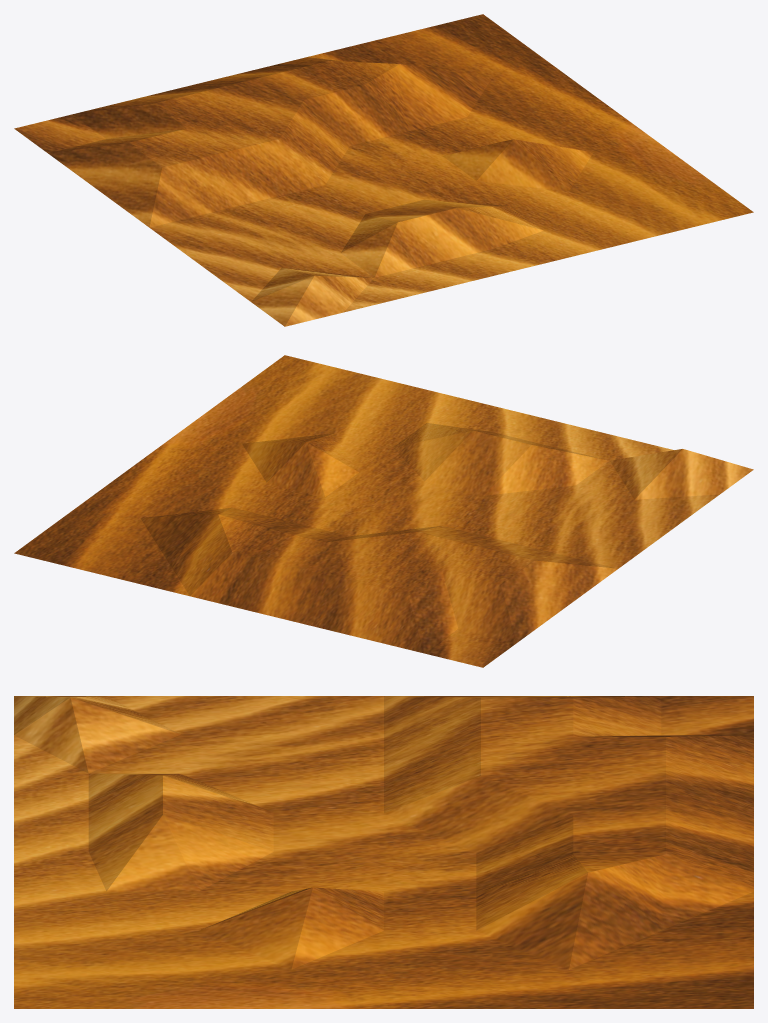
The model's file is arena.obj.
3 renders of one model, top to bottom at view 1: azimuth 30°, elevation 25°; view 2: azimuth 150°, elevation 25°; view 3: azimuth 270°, elevation 25°, orthographic. The views are drawn at different scales.
Visible parts, largest first — view 1: Plano; view 2: Plano; view 3: Plano.
Part boxes in pixels (left/top/right/bottom): Plano: left=14, top=14, right=753, bottom=326; Plano: left=14, top=355, right=753, bottom=667; Plano: left=14, top=696, right=753, bottom=1008.
Size of the model in its own units: 2 by 0.1204 by 2.
1 material, 1 textured.
